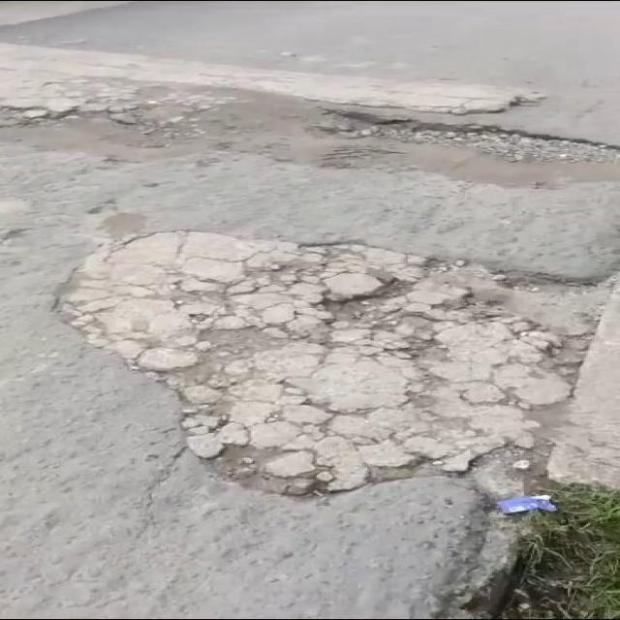lubang: (63, 232, 589, 495), (0, 74, 619, 202)
